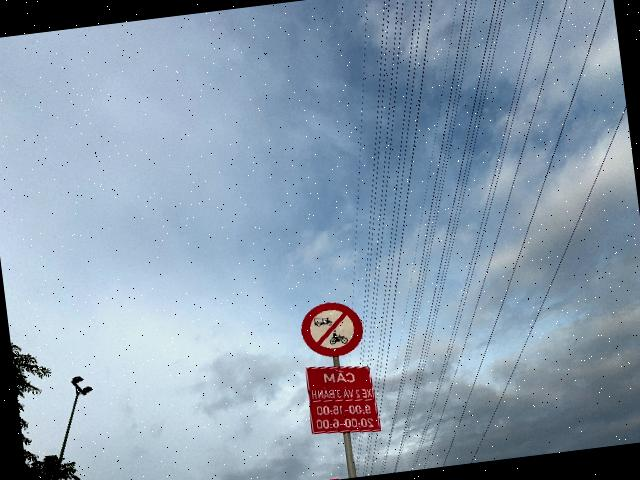cam-xe-2-banh-3-banh: (298, 298, 367, 360)
